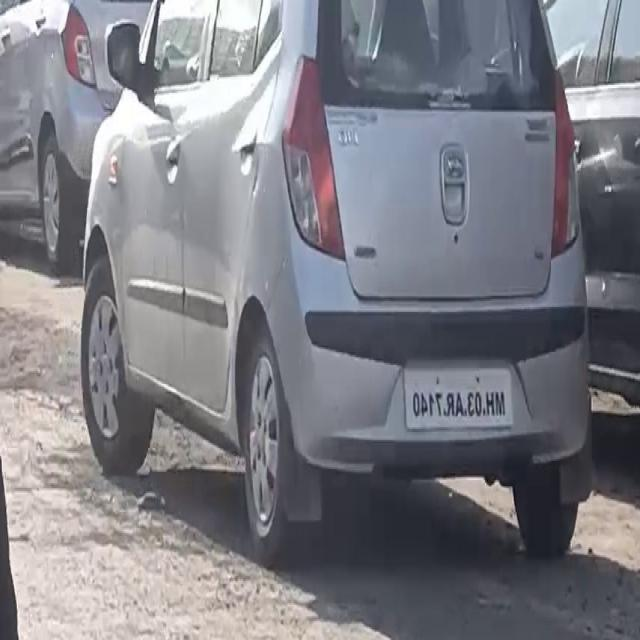license_plate: (400, 358, 515, 440)
